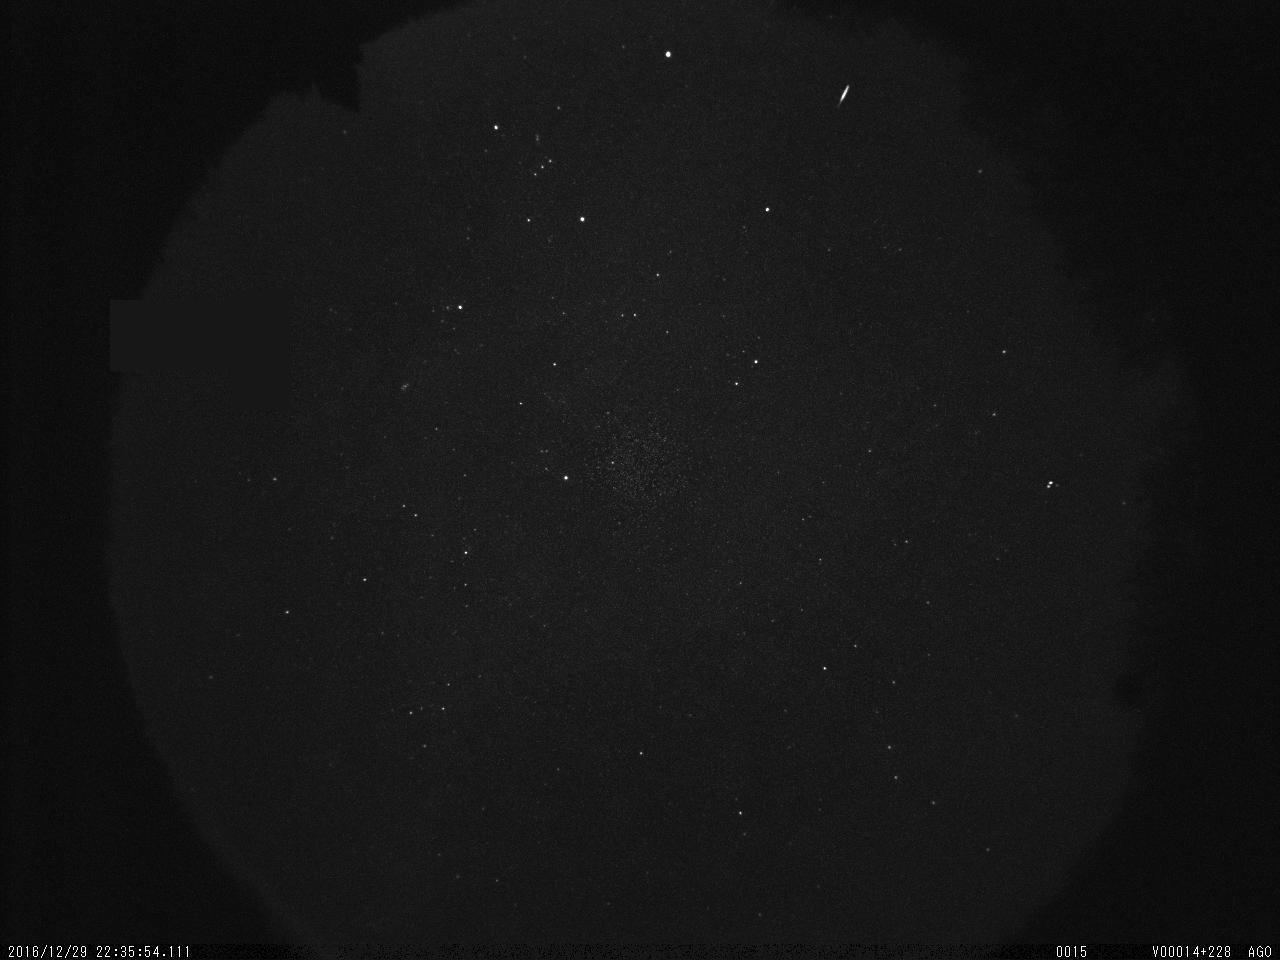meteor: (833, 69, 859, 113)
